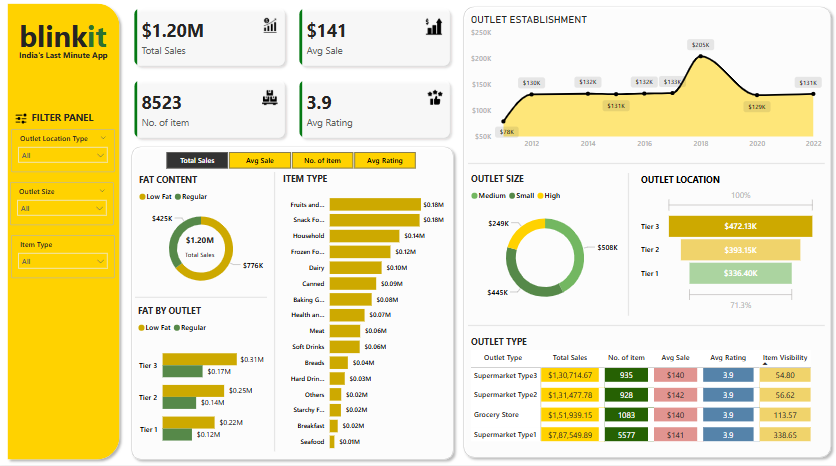

Layout of this report page (visuals, bound fields, positions):
{"tool":"powerbi","page":{"name":"Page 1","canvas":[1400,800],"ordinal":0},"visuals":[{"type":"shape","box":[10.5,21.1,204.7,778.3],"z":0},{"type":"textbox","box":[24.5,46.2,172.8,78.4],"z":1000},{"type":"cardVisual","fields":{"Data":["Table1.Total Sales","Table1.Avg Sale","Table1.No. of items","Table1.Avg Rating"]},"box":[209,21.1,567.5,249.9],"z":2000},{"type":"shape","box":[215.3,260.4,554,538.9],"z":3000},{"type":"donutChart","title":"FAT CONTENT","fields":{"Y":["Table1.Total Sales"],"Category":["Table1.Item Fat Content"]},"box":[232.9,312.9,217.1,204.3],"z":4000},{"type":"slicer","fields":{"Values":["metrics.metrics"]},"box":[258.9,271,465.2,40.6],"z":5000},{"type":"card","fields":{"Values":["Table1.Total Sales"]},"box":[290.5,400.4,99.4,70.8],"z":6000},{"type":"shape","box":[231.4,505.7,220,31.4],"z":7000},{"type":"clusteredBarChart","title":"FAT BY OUTLET","fields":{"Y":["Table1.Total Sales"],"Category":["Table1.Outlet Location Type"],"Series":["Table1.Item Fat Content"]},"box":[231.8,531.4,219.8,255.9],"z":8000},{"type":"shape","box":[454.3,311.4,18.6,465.7],"z":9000},{"type":"barChart","title":"ITEM TYPE","fields":{"Y":["Table1.Total Sales"],"Category":["Table1.Item Type"]},"box":[472.7,311.6,278.5,475.7],"z":10000},{"type":"shape","box":[769.2,27.1,630.8,770],"z":11000},{"type":"lineChart","title":"OUTLET ESTABLISHMENT","fields":{"Category":["Table1.Outlet Establishment Year"],"Y":["Table1.Total Sales"]},"box":[787.3,46.7,594.6,234.8],"z":12000},{"type":"shape","box":[787.3,281.5,594.6,31.6],"z":13000},{"type":"donutChart","title":"OUTLET SIZE","fields":{"Y":["Table1.Total Sales"],"Category":["Table1.Outlet Size"]},"box":[787.3,311.6,257.4,237.8],"z":14000},{"type":"funnel","title":"OUTLET LOCATION","fields":{"Y":["Table1.Total Sales"],"Category":["Table1.Outlet Location Type"]},"box":[1070.3,313.1,301.1,236.3],"z":15000},{"type":"shape","box":[787.3,551,594.6,31.6],"z":16000},{"type":"shape","box":[1038.7,313.1,31.6,237.8],"z":17000},{"type":"pivotTable","title":"OUTLET TYPE","fields":{"Rows":["Table1.Outlet Type"],"Values":["Table1.Total Sales","Table1.No. of item","Table1.Avg Sale","Table1.Avg Rating","Sum(Table1.Item Visibility)"]},"box":[787.3,584.1,594.6,203.2],"z":18000},{"type":"slicer","fields":{"Values":["Table1.Outlet Location Type"]},"box":[25.6,239.4,173.1,72.3],"z":19000},{"type":"slicer","fields":{"Values":["Table1.Outlet Size"]},"box":[24.1,328.2,173.1,72.3],"z":20000},{"type":"slicer","fields":{"Values":["Table1.Item Type"]},"box":[25.6,417,173.1,72.3],"z":21000},{"type":"textbox","box":[45.1,205.1,130.9,34.9],"z":22000},{"type":"image","box":[27,201,30,42],"z":23000},{"type":"textbox","box":[24.3,102.9,174.3,42.9],"z":24000}]}

Visuals, with their boxes in screenshot pixels (x1, y1, x2, y2), scaled from the page's 1400x800 canvas onto the 836x466 screenshot:
shape: <region>6, 12, 129, 465</region>
textbox: <region>15, 27, 118, 73</region>
cardVisual - Table1.Total Sales x Table1.Avg Sale: <region>125, 12, 464, 158</region>
shape: <region>129, 152, 459, 465</region>
"FAT CONTENT" donutChart: <region>139, 182, 269, 301</region>
slicer - metrics.metrics: <region>155, 158, 432, 182</region>
card - Table1.Total Sales: <region>173, 233, 233, 274</region>
shape: <region>138, 295, 270, 313</region>
"FAT BY OUTLET" clusteredBarChart: <region>138, 310, 270, 459</region>
shape: <region>271, 181, 282, 453</region>
"ITEM TYPE" barChart: <region>282, 182, 449, 459</region>
shape: <region>459, 16, 835, 464</region>
"OUTLET ESTABLISHMENT" lineChart: <region>470, 27, 825, 164</region>
shape: <region>470, 164, 825, 182</region>
"OUTLET SIZE" donutChart: <region>470, 182, 624, 320</region>
"OUTLET LOCATION" funnel: <region>639, 182, 819, 320</region>
shape: <region>470, 321, 825, 339</region>
shape: <region>620, 182, 639, 321</region>
"OUTLET TYPE" pivotTable: <region>470, 340, 825, 459</region>
slicer - Table1.Outlet Location Type: <region>15, 139, 119, 182</region>
slicer - Table1.Outlet Size: <region>14, 191, 118, 233</region>
slicer - Table1.Item Type: <region>15, 243, 119, 285</region>
textbox: <region>27, 119, 105, 140</region>
image: <region>16, 117, 34, 142</region>
textbox: <region>15, 60, 119, 85</region>
